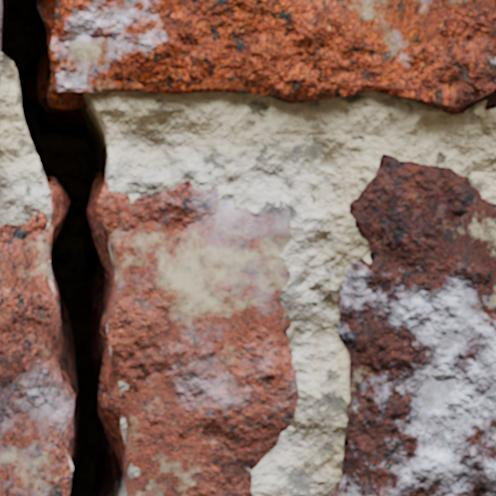brick: (332, 155, 495, 495), (52, 0, 495, 114), (286, 175, 291, 191), (0, 0, 1, 21)
broken_brick: (98, 180, 298, 495), (0, 211, 70, 495)
crack: (0, 0, 137, 495)
